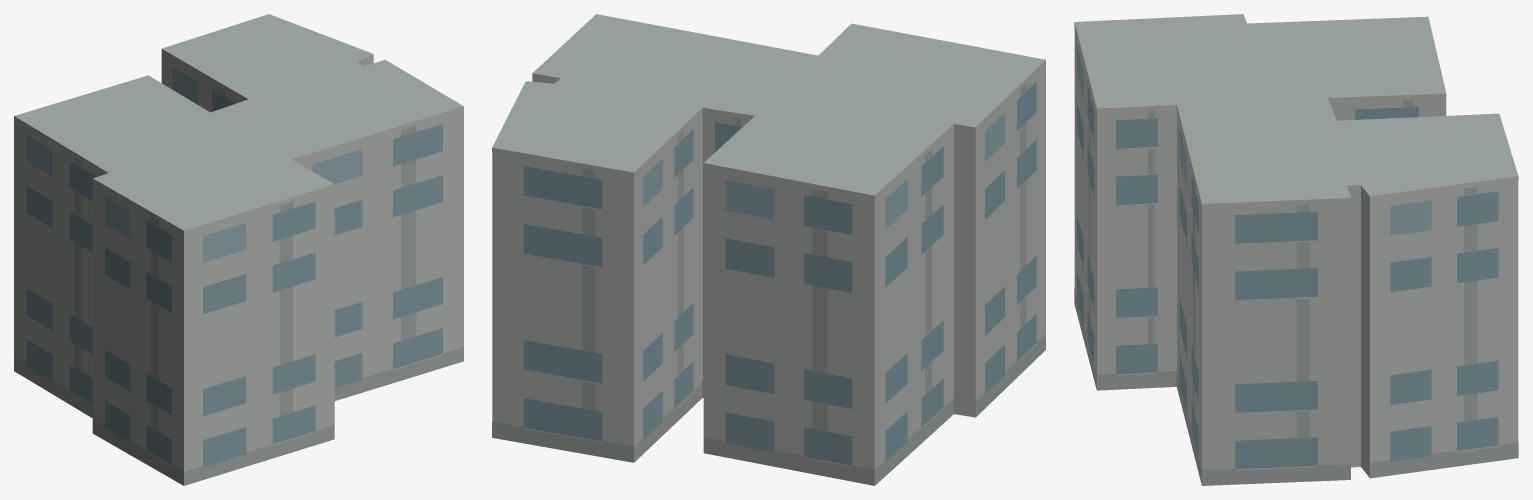
Rendered from survey-upis-32611986.glb.
The picture shows the model from 3 angles, left to right: view 1: azimuth 30°, elevation 25°; view 2: azimuth 150°, elevation 25°; view 3: azimuth 270°, elevation 25°; orthographic projection. The views are drawn at different scales.
Visible parts, largest first — view 1: survey-upis-32611986.tmp; view 2: survey-upis-32611986.tmp; view 3: survey-upis-32611986.tmp.
Part boxes in pixels (x1,y1,x2,y2): survey-upis-32611986.tmp: (14, 14, 463, 485); survey-upis-32611986.tmp: (492, 14, 1045, 485); survey-upis-32611986.tmp: (1074, 14, 1518, 485).
Bounding box in the file's own units: 20.01 × 13.84 × 19.76.
